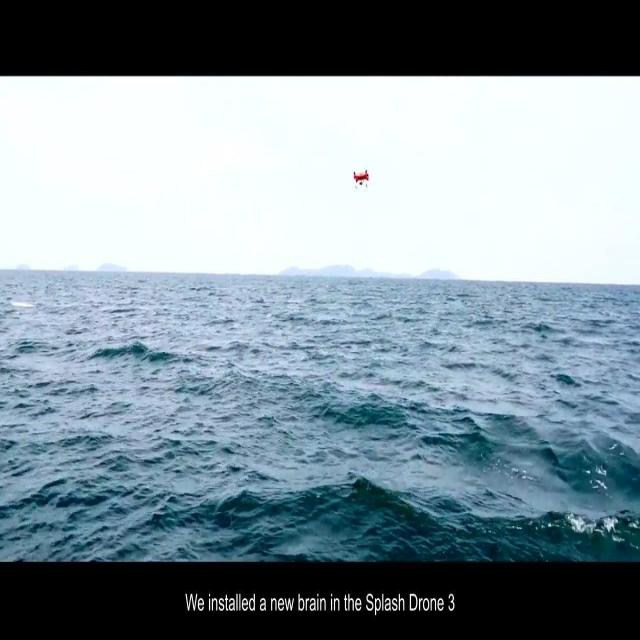UAV: (353, 170, 369, 189)
